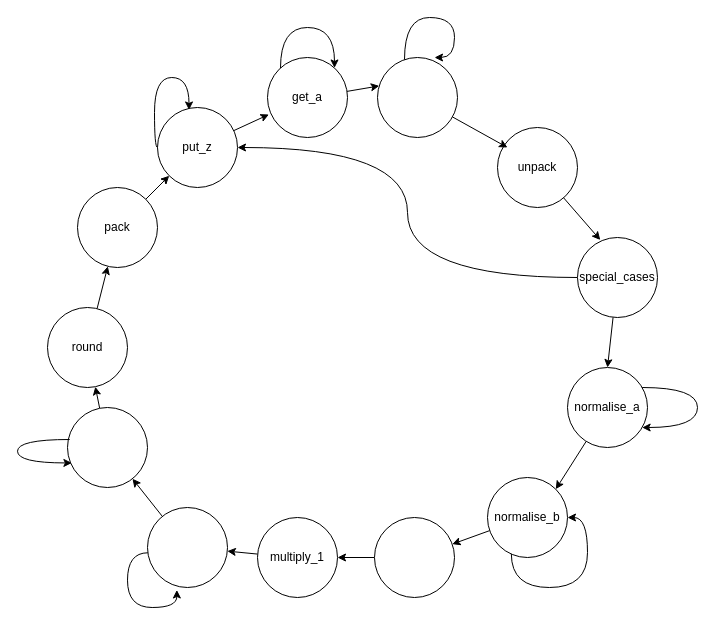
The diagram is 715 pixels wide and 625 high, and some of its shapes have lost their labels. The centre of each missing label's shape, as x and y in pixels:
"get_b" belongs at point 417,97.
"multiply_0" belongs at point 414,557.
"normalise_1" belongs at point 187,547.
"normalise_2" belongs at point 107,447.
